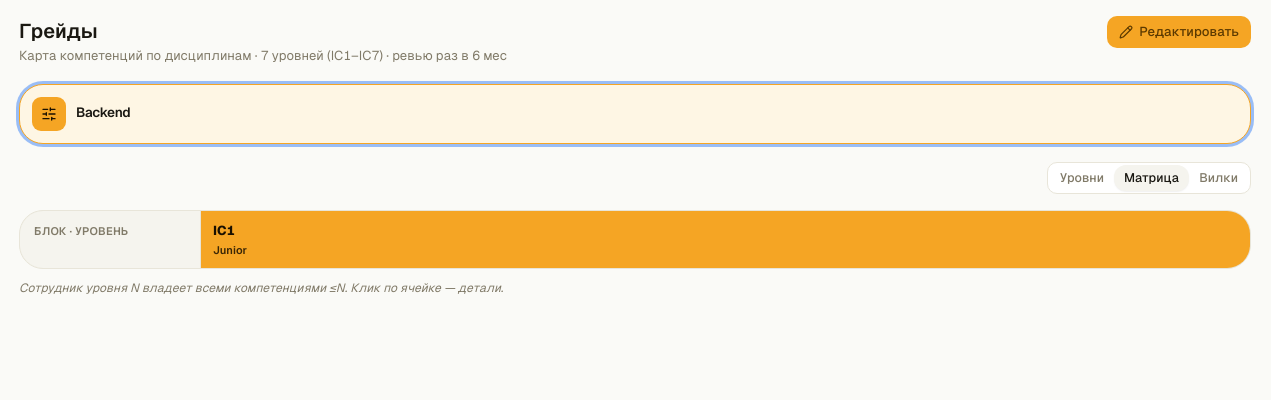
Test case: GradesClient bands gating › bands-edit hides the framework «Редактировать» entry (mutual exclusivity)
The width and height of the screenshot is (1271, 400).
What coordinates should you click on to do the following:
click the button "Вилки"
I would click on:
 (1219, 178)
Its box is x1=1189 y1=164 x2=1248 y2=191.
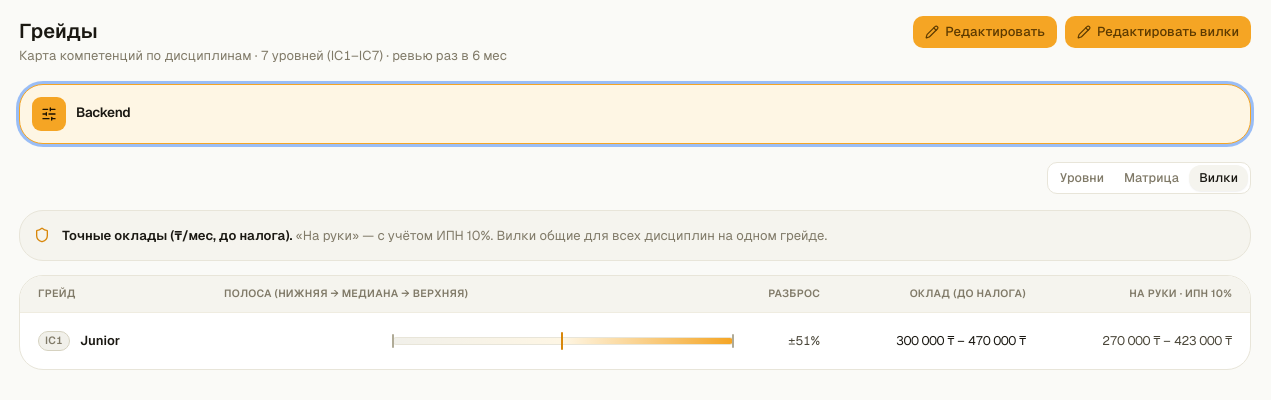
Expected: the button "Редактировать" is shown, x1=913 y1=16 x2=1057 y2=48
Expected: the button "Редактировать вилки" is shown
# enter bands-edit → framework entry disappears, badge shows
What coordinates should you click on to do the following:
click the button "Редактировать вилки"
I would click on:
 (1158, 32)
Its box is x1=1065 y1=16 x2=1251 y2=48.
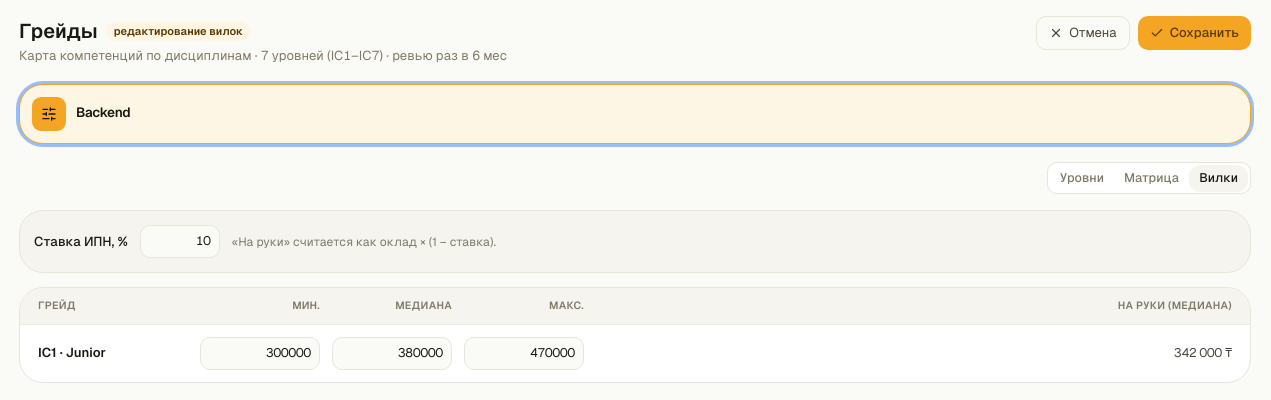
Expected: the text "редактирование вилок" is shown, x1=106 y1=21 x2=251 y2=41
Expected: the button "Редактировать" is gone
